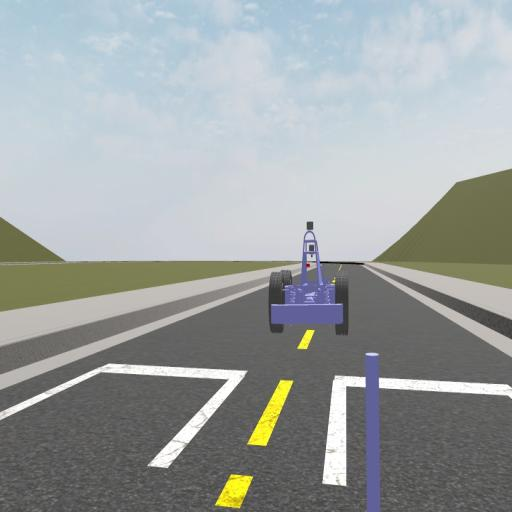ERP-42: (268, 220, 348, 333)
